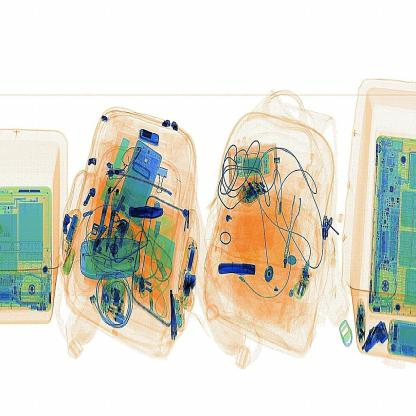knife: (129, 200, 167, 220)
